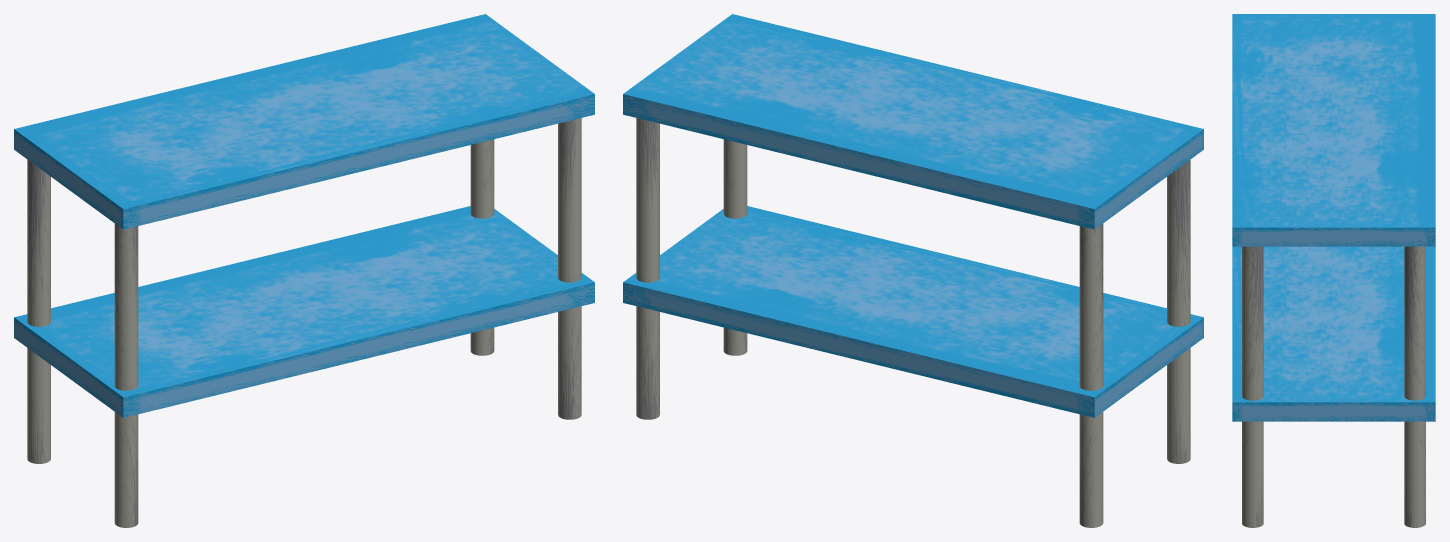
The model's file is Low_shelf.fbx.
3 views of the same model, side by side, from view 1: azimuth 30°, elevation 25°; view 2: azimuth 150°, elevation 25°; view 3: azimuth 270°, elevation 25° (orthographic). The views are drawn at different scales.
Parts seen in each view (by area): view 1: Cube.001; view 2: Cube.001; view 3: Cube.001.
Boxes of the visible parts, x1,y1,x2,y2 form: Cube.001: [14, 14, 594, 527]; Cube.001: [623, 14, 1203, 527]; Cube.001: [1232, 14, 1435, 527].
Bounding box in the file's own units: 803 × 529 × 323.
